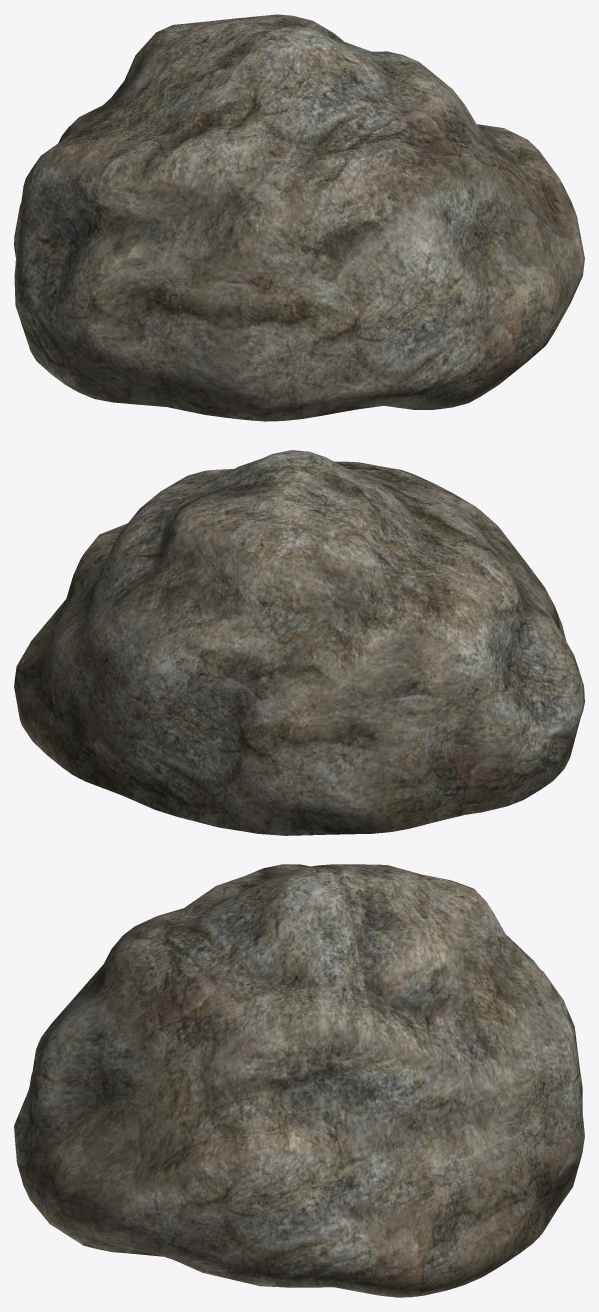
The model's file is rock_free_asset_download.glb.
3 renders of one model, top to bottom at view 1: azimuth 30°, elevation 25°; view 2: azimuth 150°, elevation 25°; view 3: azimuth 270°, elevation 25°, orthographic. The views are drawn at different scales.
Parts seen in each view (by area): view 1: Sphere; view 2: Sphere; view 3: Sphere.
Boxes of the visible parts, box(x1,y1,x2,y2) form: Sphere: box(14, 14, 584, 421); Sphere: box(14, 450, 584, 835); Sphere: box(14, 864, 584, 1297).
Size of the model in its own units: 346 by 192 by 317.
Materials: 1 (1 with a texture image).
